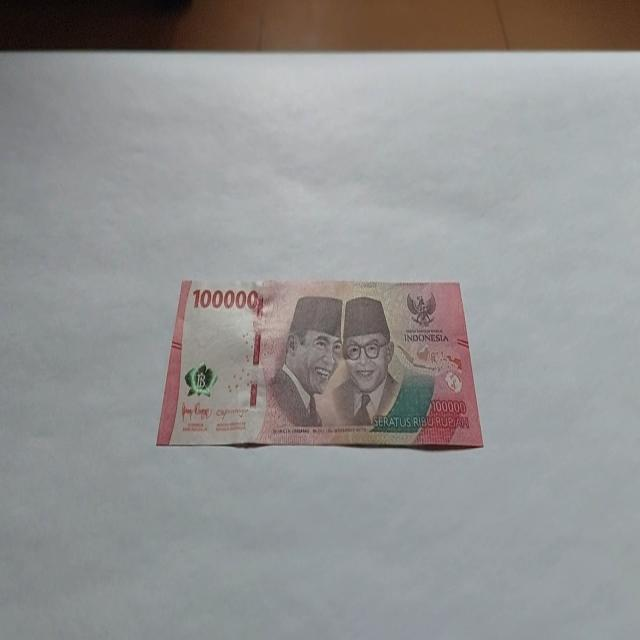seratus ribu rupiah: (156, 276, 484, 450)
